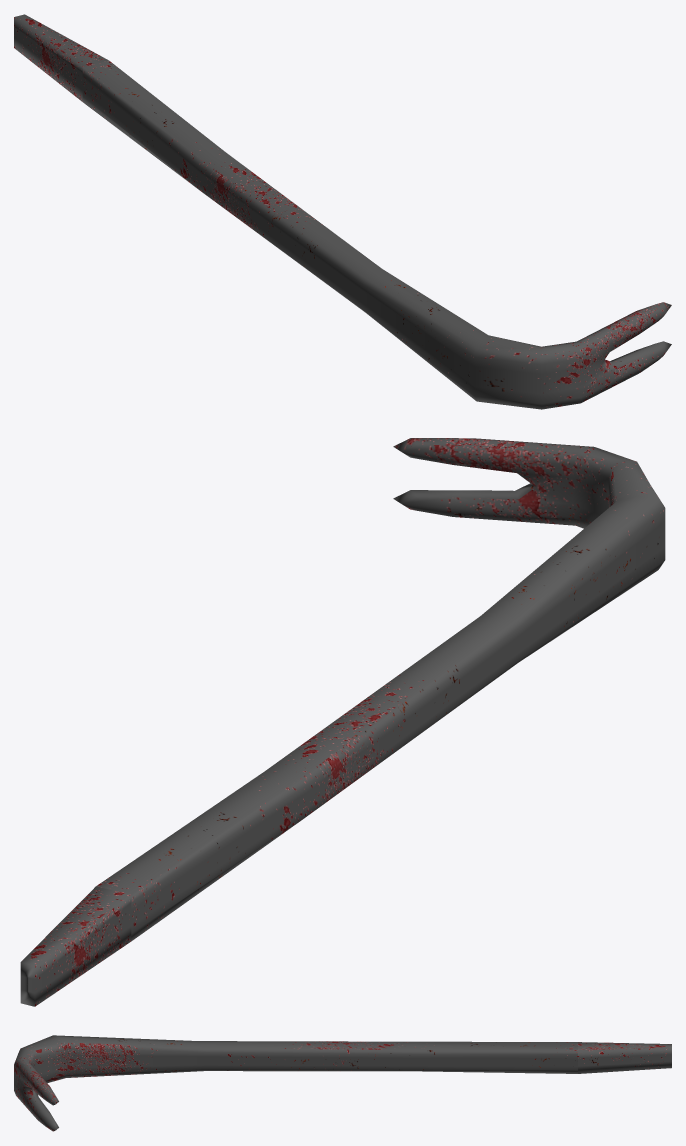
The model's file is PeDeCabraRE1.fbx.
The picture shows the model from 3 angles, top to bottom: view 1: azimuth 30°, elevation 25°; view 2: azimuth 150°, elevation 25°; view 3: azimuth 270°, elevation 25°; orthographic projection. The views are drawn at different scales.
Parts seen in each view (by area): view 1: PeDeCabra; view 2: PeDeCabra; view 3: PeDeCabra.
Boxes of the visible parts, x1,y1,x2,y2 form: PeDeCabra: (14,14,671,409); PeDeCabra: (20,438,665,1006); PeDeCabra: (14,1035,671,1131).
Bounding box in the file's own units: 0.1072 × 0.0294 × 0.4501.
1 material, 1 textured.
